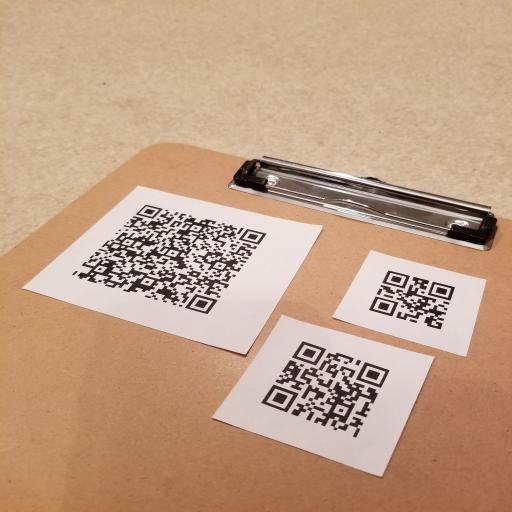QR_CODE: (62, 197, 274, 320), (254, 336, 397, 443), (358, 262, 464, 334)
